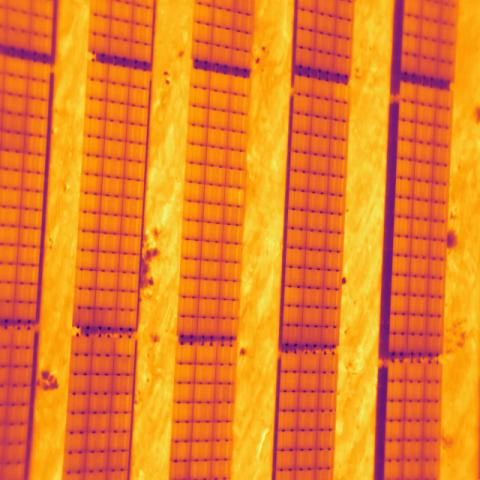fault: (225, 187, 246, 209)
